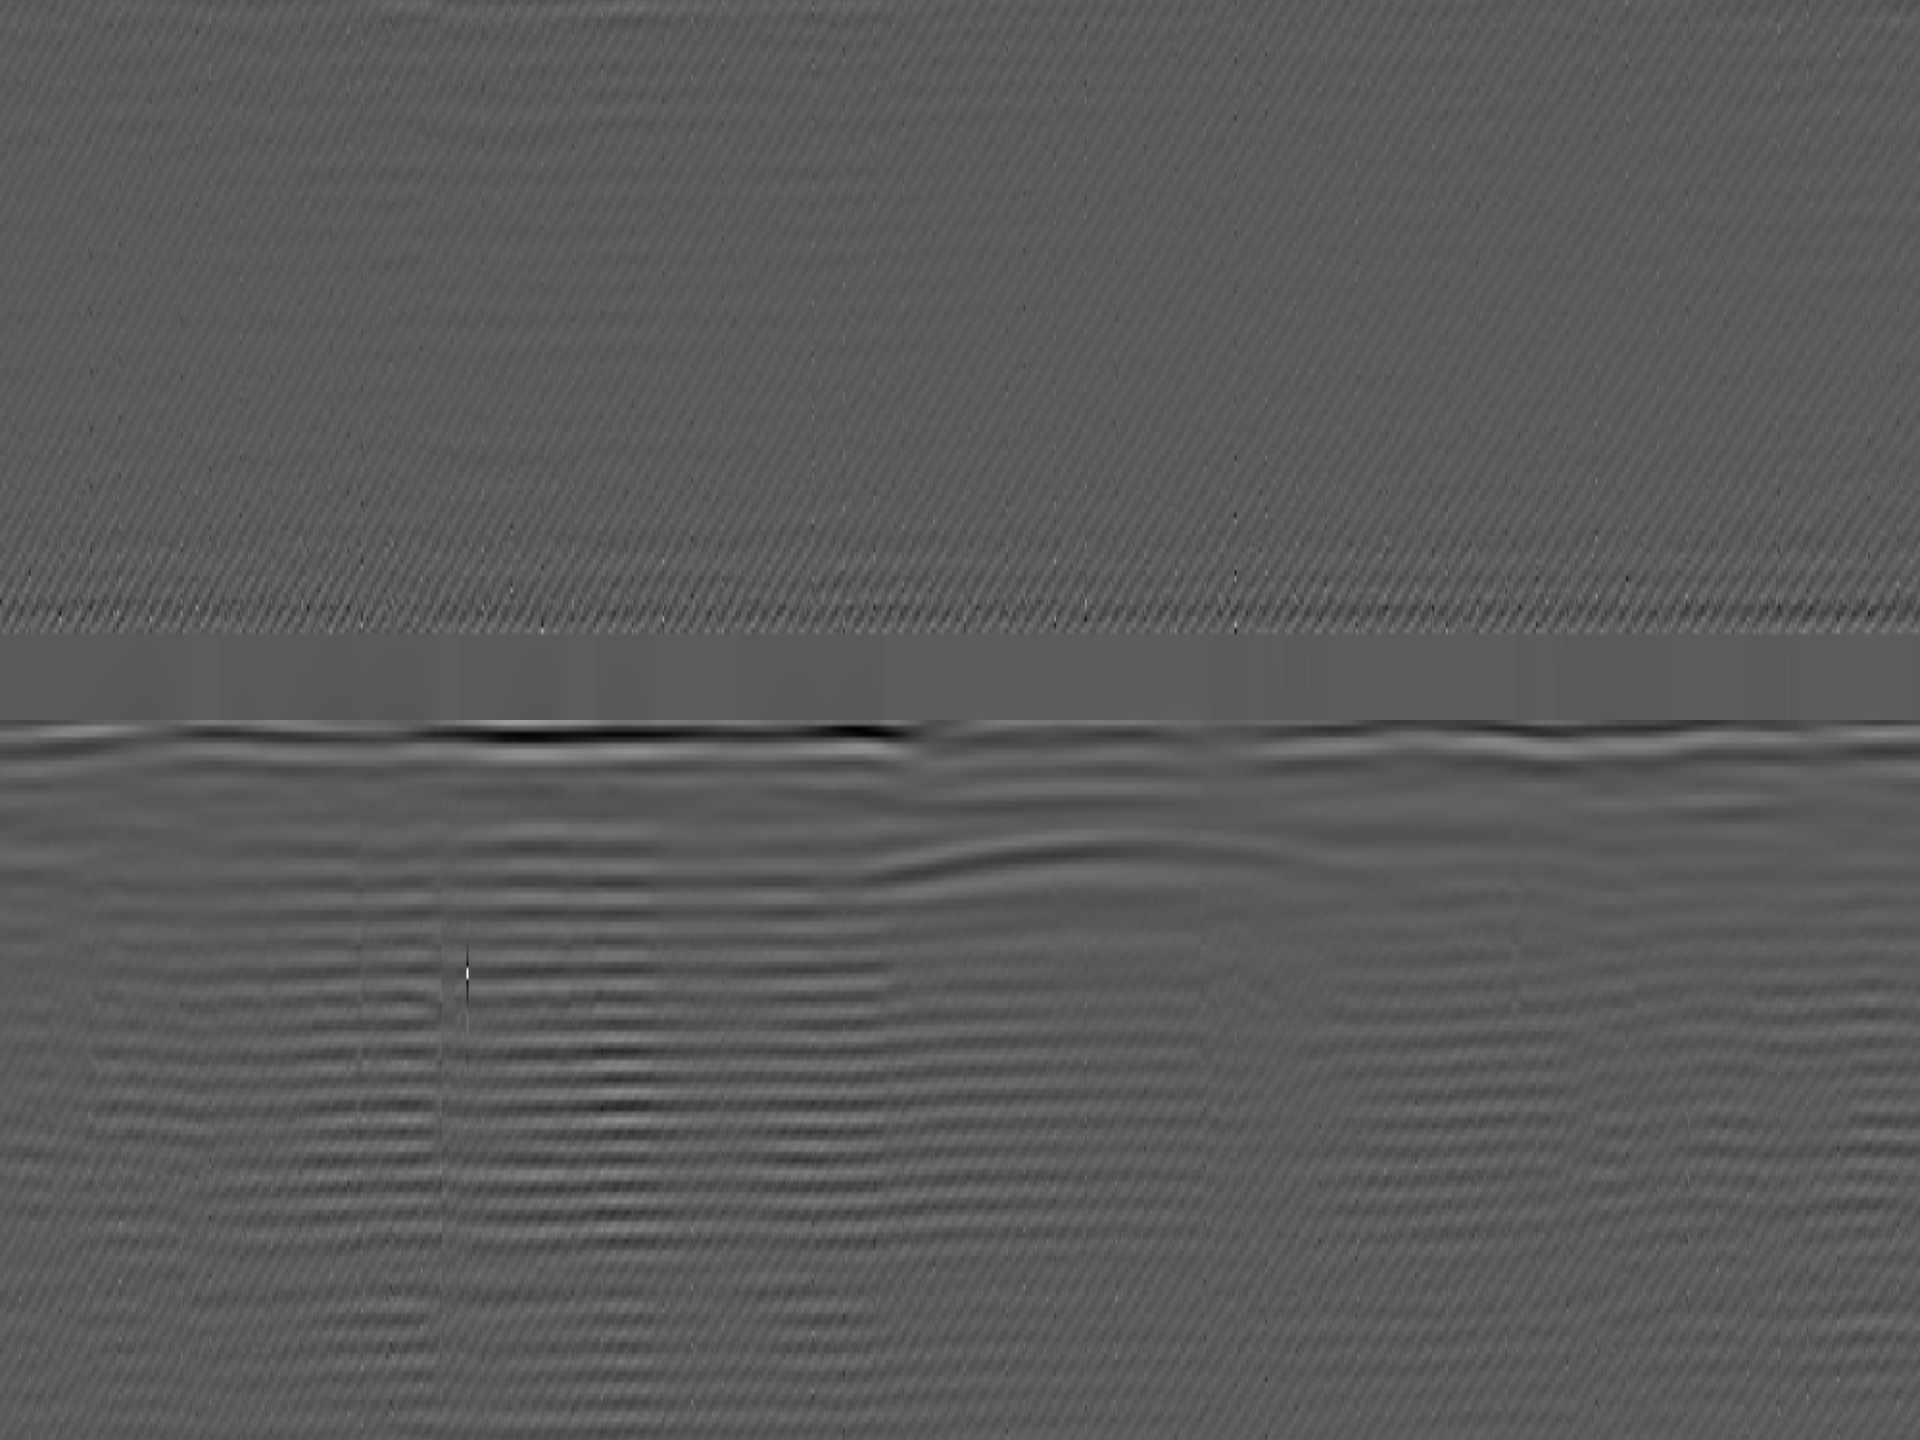Tunnel: (854, 829, 1409, 898)
